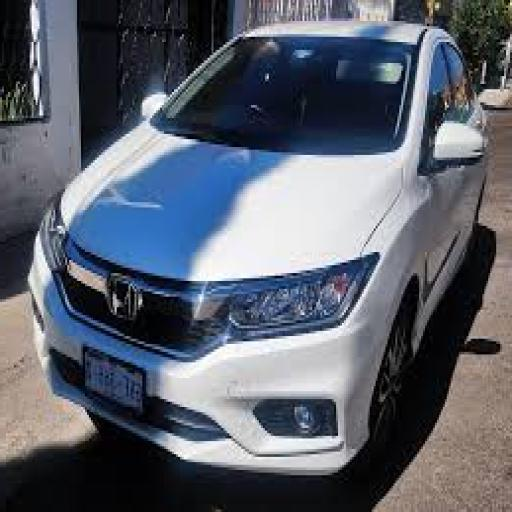License: (75, 346, 151, 414)
